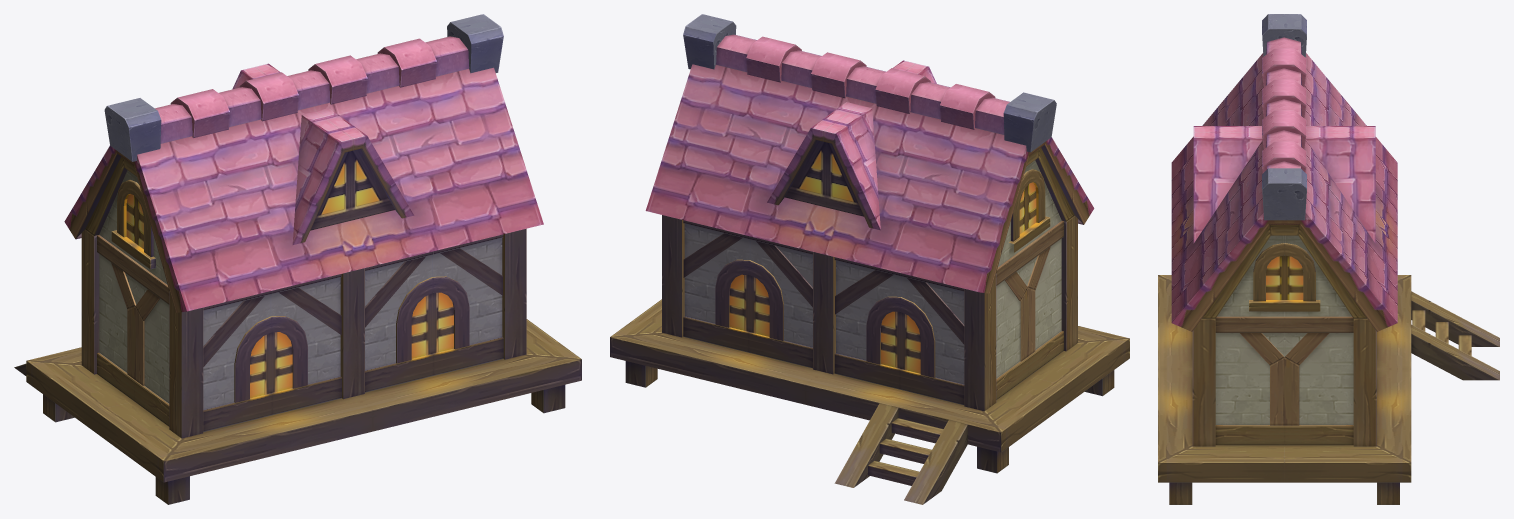
Rendered from scenes_town_house02.FBX.
3 renders of one model, left to right at view 1: azimuth 30°, elevation 25°; view 2: azimuth 150°, elevation 25°; view 3: azimuth 270°, elevation 25°, orthographic. The views are drawn at different scales.
Visible parts, largest first — view 1: scenes_town_house02; view 2: scenes_town_house02; view 3: scenes_town_house02.
Boxes of the visible parts, bbox=[...] form: scenes_town_house02: bbox=[14, 14, 581, 504]; scenes_town_house02: bbox=[610, 14, 1129, 504]; scenes_town_house02: bbox=[1158, 14, 1499, 504].
Size of the model in its own units: 856 by 674 by 658.
